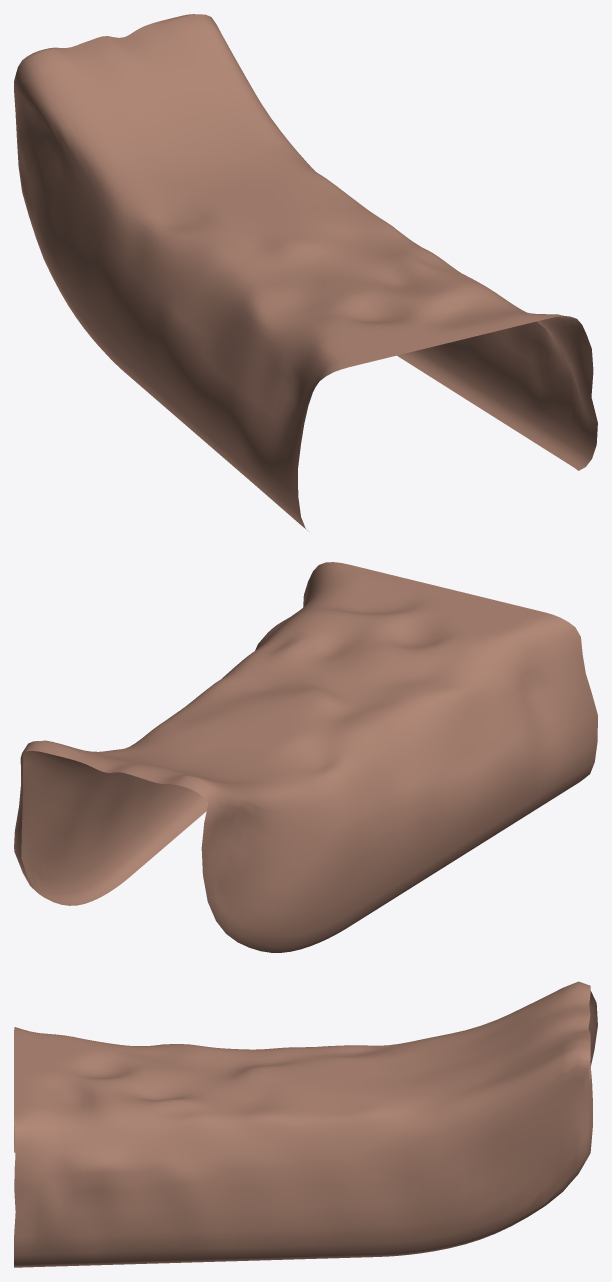
The model's file is SM_LavaCave.fbx.
The picture shows the model from 3 angles, top to bottom: view 1: azimuth 30°, elevation 25°; view 2: azimuth 150°, elevation 25°; view 3: azimuth 270°, elevation 25°; orthographic projection. The views are drawn at different scales.
Parts seen in each view (by area): view 1: polySurface1; view 2: polySurface1; view 3: polySurface1.
Part boxes in pixels (x1,y1,x2,y2): polySurface1: [14, 14, 597, 530]; polySurface1: [14, 562, 597, 952]; polySurface1: [14, 981, 597, 1267].
Size of the model in its own units: 639 by 467 by 1254.
